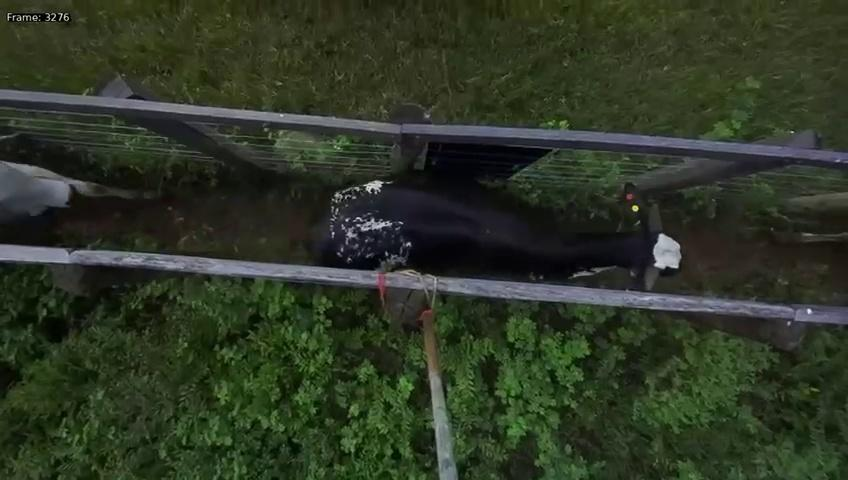cattle: (303, 162, 687, 304)
